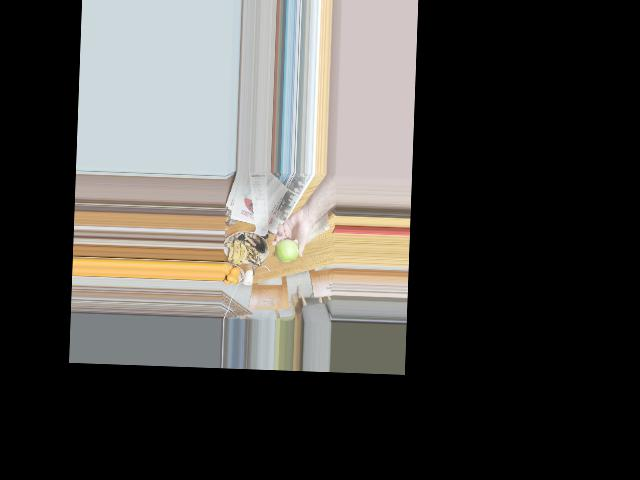apple: (273, 237, 298, 261)
